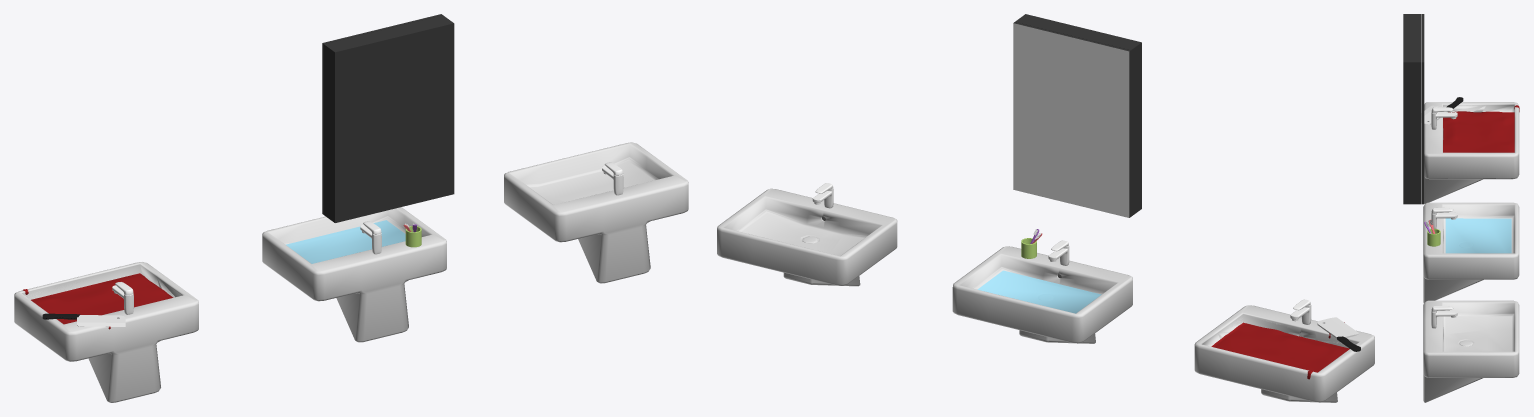
The model's file is sink_variation_challenge.glb.
3 views of the same model, side by side, from view 1: azimuth 30°, elevation 25°; view 2: azimuth 150°, elevation 25°; view 3: azimuth 270°, elevation 25° (orthographic). The views are drawn at different scales.
Parts seen in each view (by area): view 1: Cube.007, Plane, Plane.003, Plane.005, Cube.006; view 2: Cube.006, Plane, Plane.005, Plane.003, Cube.007; view 3: Plane, Plane.005, Plane.003, Cube.007, Cube.006, Plane.002, Plane.001, Plane.004, Cylinder, Cube.001.
Part boxes in pixels (left/top/right/bottom): Cube.007: left=324, top=15, right=454, bottom=222; Plane: left=504, top=142, right=688, bottom=283; Plane.003: left=14, top=262, right=198, bottom=402; Plane.005: left=262, top=207, right=446, bottom=342; Cube.006: left=322, top=14, right=442, bottom=214; Cube.006: left=1013, top=22, right=1130, bottom=217; Plane: left=717, top=188, right=897, bottom=286; Plane.005: left=952, top=246, right=1132, bottom=343; Plane.003: left=1194, top=305, right=1374, bottom=402; Cube.007: left=1015, top=14, right=1141, bottom=216; Plane: left=1423, top=300, right=1519, bottom=402; Plane.005: left=1423, top=202, right=1519, bottom=303; Plane.003: left=1424, top=102, right=1519, bottom=203; Cube.007: left=1403, top=14, right=1421, bottom=204; Cube.006: left=1422, top=14, right=1424, bottom=204; Plane.002: left=1431, top=107, right=1457, bottom=129; Plane.001: left=1431, top=306, right=1457, bottom=328; Plane.004: left=1431, top=207, right=1457, bottom=228; Cylinder: left=1427, top=228, right=1440, bottom=246; Cube.001: left=1421, top=105, right=1448, bottom=124.
Bounding box in the file's own units: 4040 × 1901 × 782.
